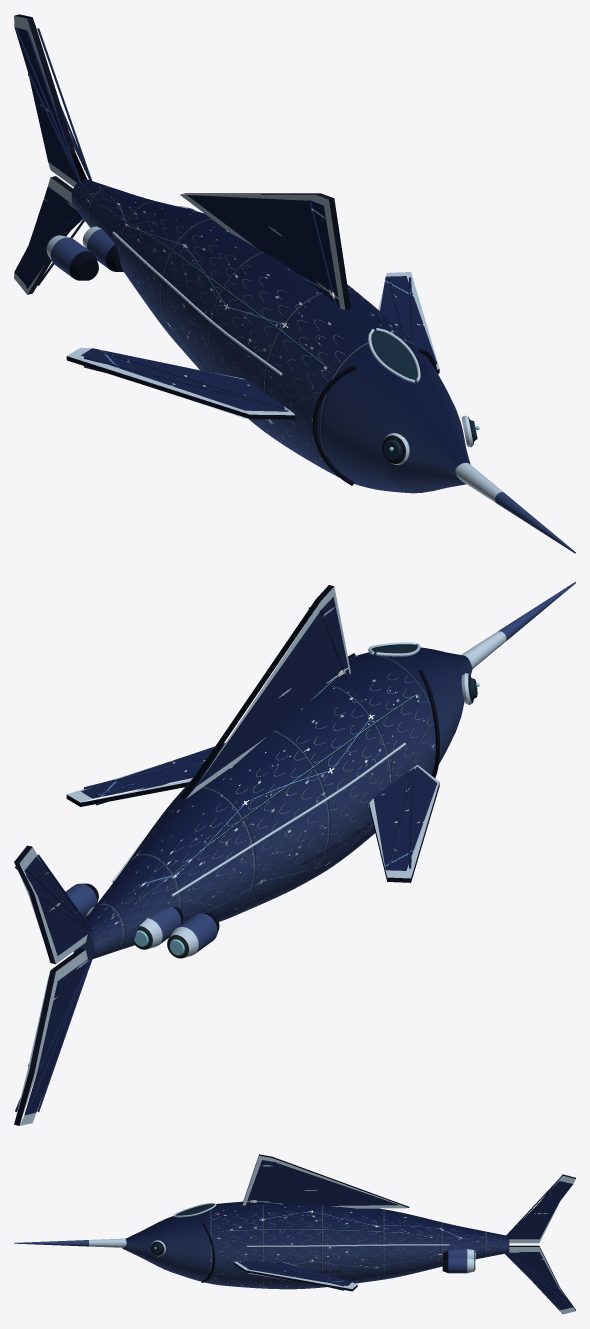
3 views of the same model, one above another, from view 1: azimuth 30°, elevation 25°; view 2: azimuth 150°, elevation 25°; view 3: azimuth 270°, elevation 25° (orthographic). The views are drawn at different scales.
Parts seen in each view (by area): view 1: marlin_hull; view 2: marlin_hull; view 3: marlin_hull.
Part boxes in pixels (x1,y1,x2,y2): marlin_hull: [14, 14, 575, 553]; marlin_hull: [14, 582, 575, 1125]; marlin_hull: [14, 1154, 575, 1314].
Bounding box in the file's own units: 29.91 × 26.23 × 84.
Materials: 1 (1 with a texture image).
